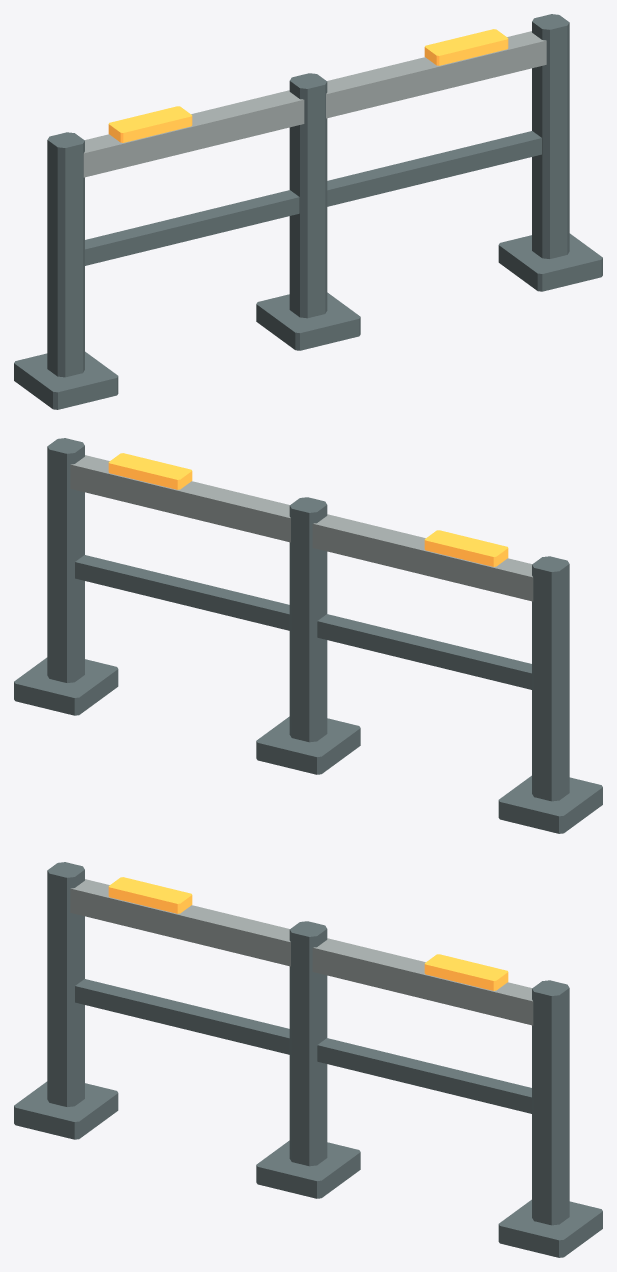
The model's file is refinery-dressing-guard-rail-lod0.glb.
3 renders of one model, top to bottom at view 1: azimuth 30°, elevation 25°; view 2: azimuth 150°, elevation 25°; view 3: azimuth 330°, elevation 25°, orthographic.
Visible parts, largest first — view 1: guard-post (×3), guard-top, guard-cross, guard-anchor-plate (×3), guard-warning-tab (×2); view 2: guard-post (×3), guard-top, guard-cross, guard-anchor-plate (×3), guard-warning-tab (×2); view 3: guard-post (×3), guard-top, guard-cross, guard-anchor-plate (×3), guard-warning-tab (×2).
Boxes of the visible parts, <box> form: guard-post (×3): <box>47,14,569,377</box>; guard-top: <box>83,31,546,177</box>; guard-cross: <box>85,131,541,265</box>; guard-anchor-plate (×3): <box>14,233,602,409</box>; guard-warning-tab (×2): <box>108,29,508,142</box>; guard-post (×3): <box>47,438,569,801</box>; guard-top: <box>70,455,533,601</box>; guard-cross: <box>75,555,531,689</box>; guard-anchor-plate (×3): <box>14,657,602,833</box>; guard-warning-tab (×2): <box>108,453,508,566</box>; guard-post (×3): <box>47,862,569,1225</box>; guard-top: <box>70,879,533,1025</box>; guard-cross: <box>75,979,531,1113</box>; guard-anchor-plate (×3): <box>14,1081,602,1257</box>; guard-warning-tab (×2): <box>108,877,508,990</box>.
Bounding box in the file's own units: 2.61 × 1.12 × 0.35.
